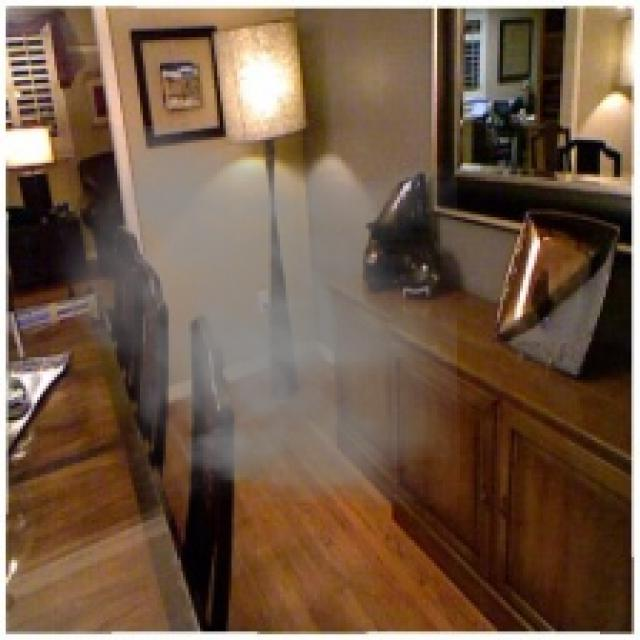smoke: (43, 126, 457, 508)
